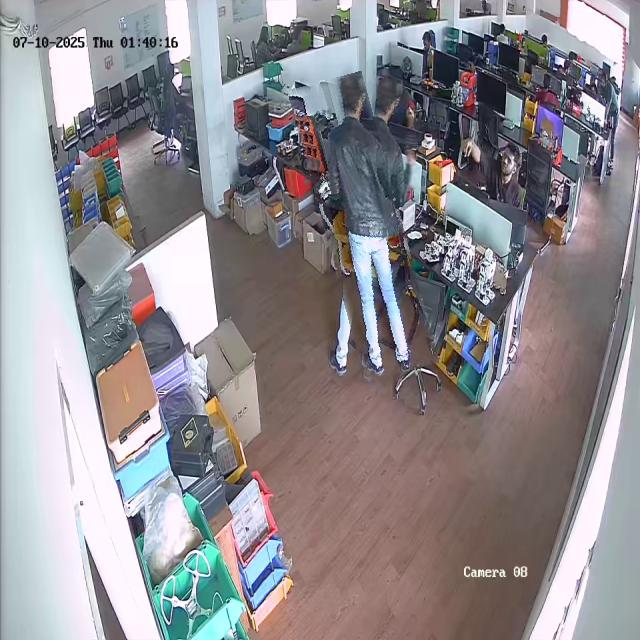person: (306, 74, 421, 380)
